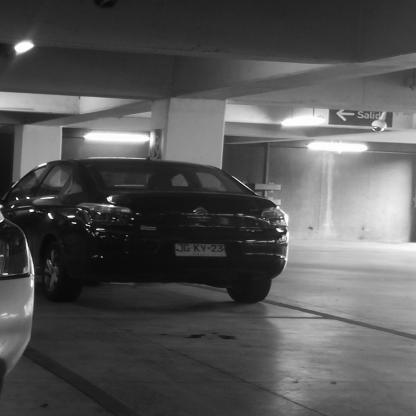Patente: (172, 243, 230, 258)
